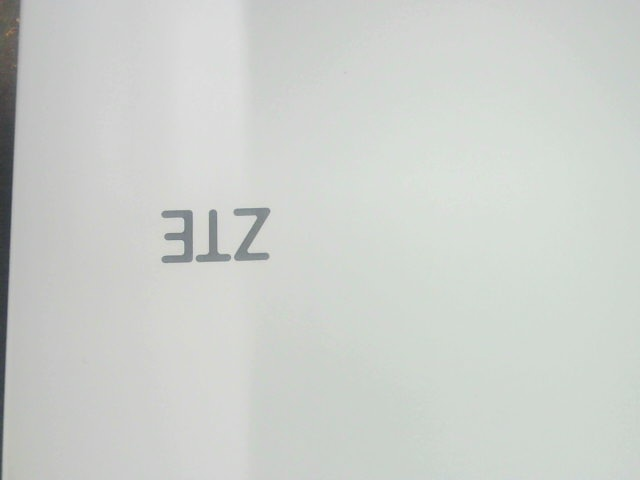AN_ZTE: (153, 202, 277, 266)
